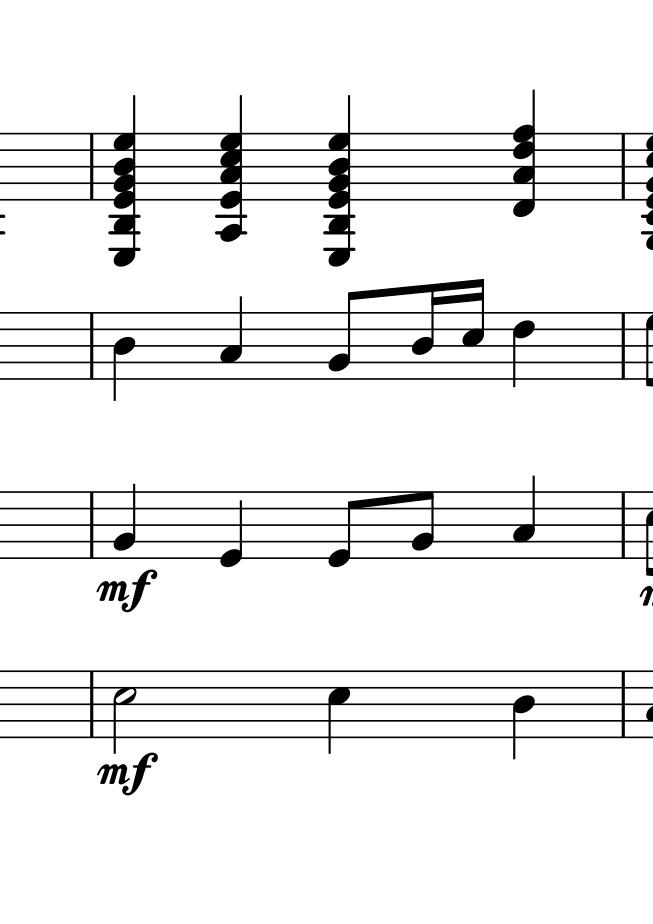16_5: (461, 278, 487, 382)
2_5: (110, 667, 139, 754)
4_0: (218, 489, 245, 569)
4_2: (112, 483, 139, 563)
4_3: (219, 294, 246, 381), (513, 473, 538, 560)
4_4: (111, 308, 138, 401), (511, 667, 537, 760)
4_4th: (511, 88, 537, 221)
4_5: (327, 668, 353, 754)
4_6: (510, 311, 539, 392)
8_0: (325, 490, 361, 569)
8_2: (327, 290, 361, 381), (411, 489, 437, 561)
8_4: (412, 282, 442, 383)
Single_barline: (615, 492, 632, 559), (83, 313, 100, 377), (616, 671, 632, 738), (615, 313, 632, 376), (84, 671, 100, 737), (616, 133, 631, 200), (84, 134, 99, 200), (85, 494, 98, 557)
mf: (91, 747, 156, 802), (91, 569, 161, 617)
